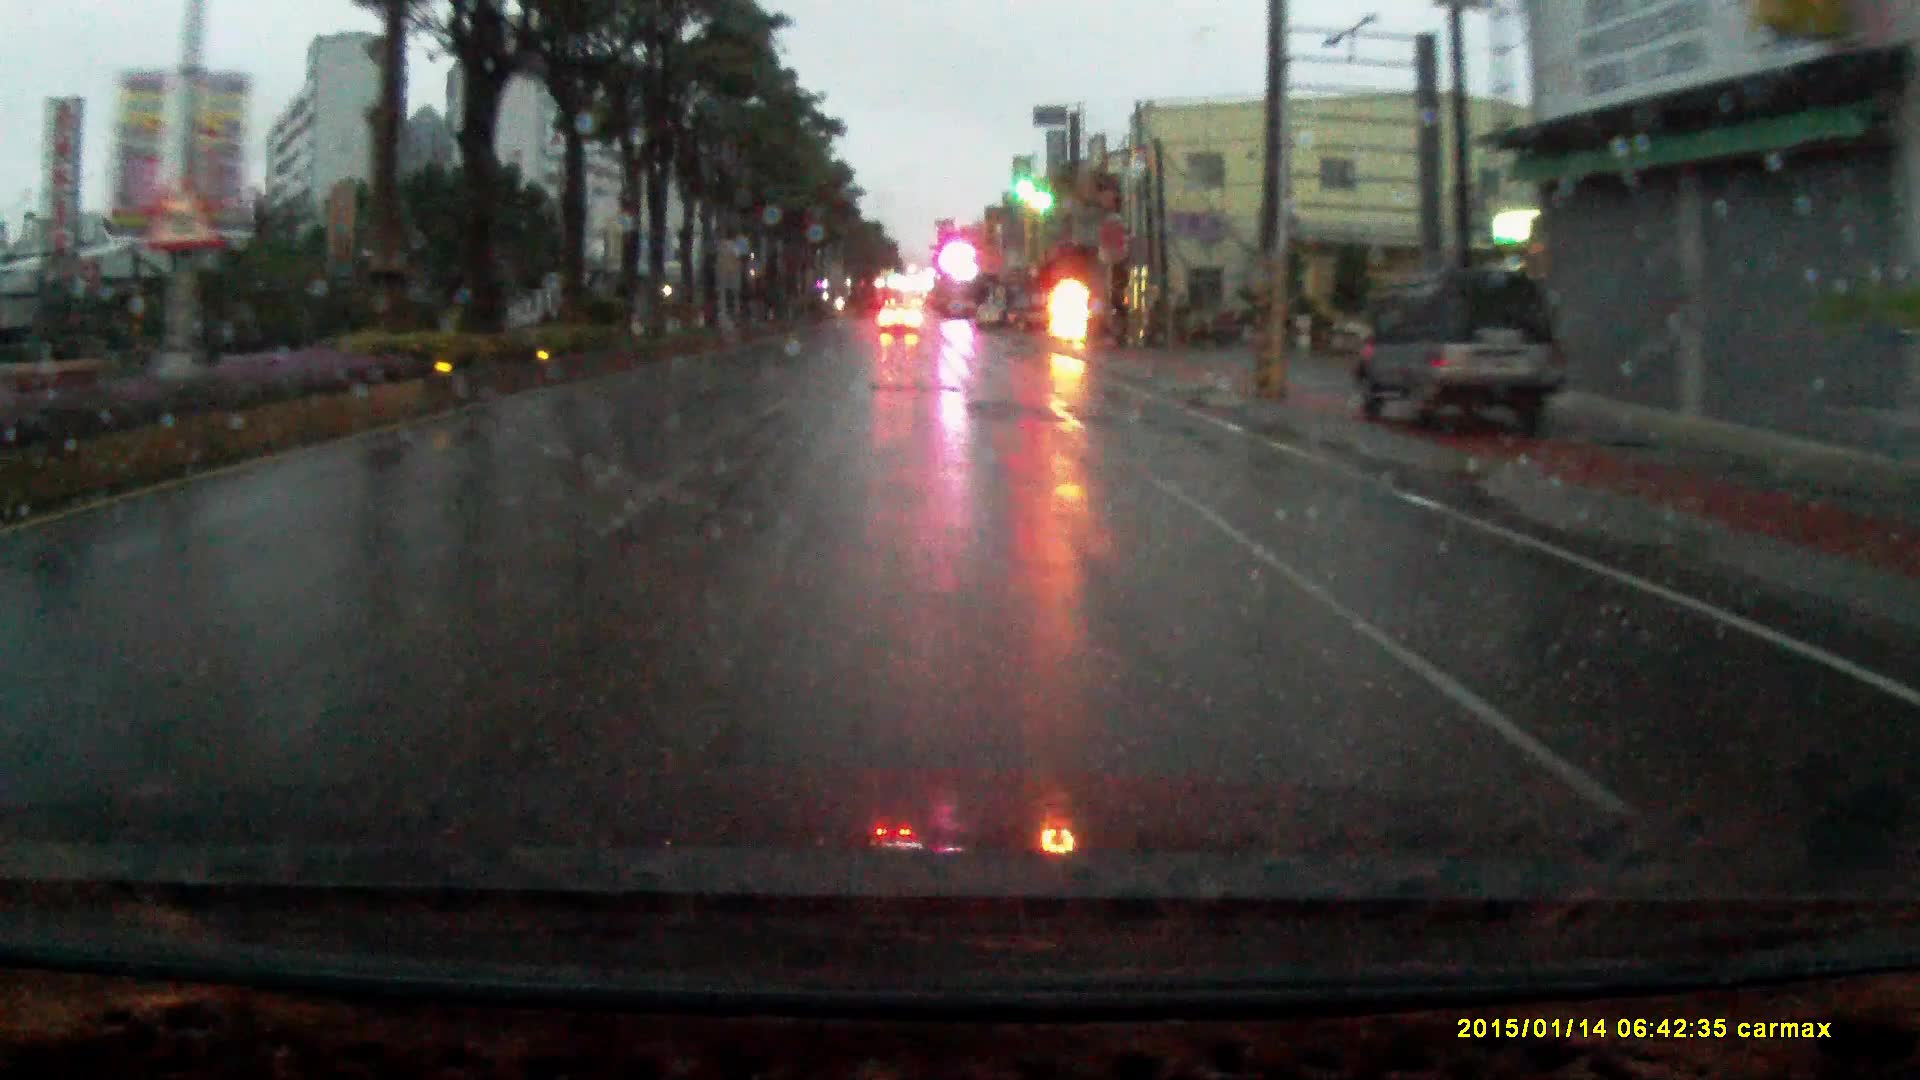vehicle: (1354, 270, 1567, 436), (1005, 294, 1060, 332), (878, 301, 922, 334)
